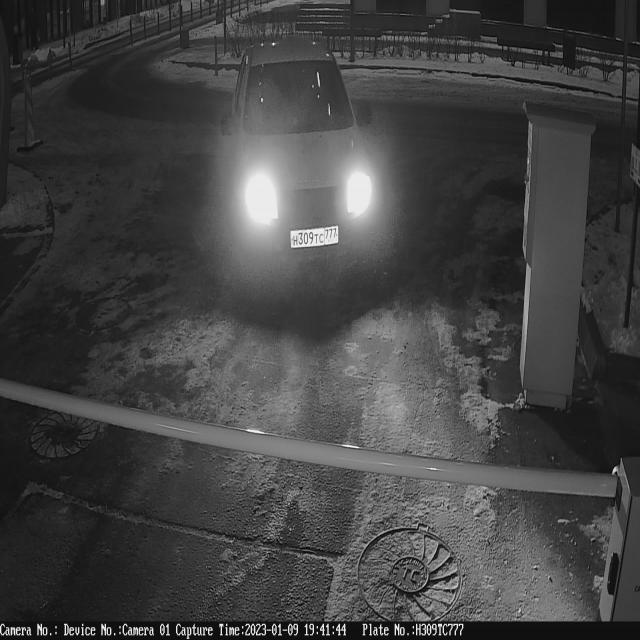car-plate-numbers: (288, 221, 342, 254)
